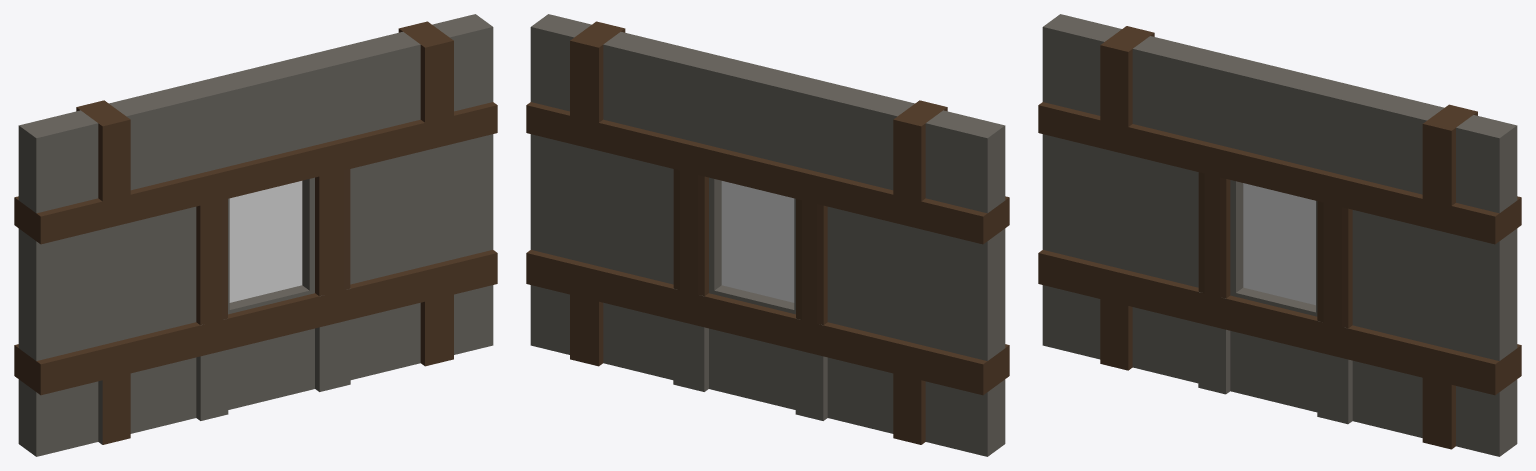
File: Window Wall.fbx
3 views of the same model, side by side, from view 1: azimuth 30°, elevation 25°; view 2: azimuth 150°, elevation 25°; view 3: azimuth 330°, elevation 25° (orthographic).
Parts seen in each view (by area): view 1: Window Wall; view 2: Window Wall; view 3: Window Wall.
Boxes of the visible parts, x1,y1,x2,y2 form: Window Wall: [14, 14, 497, 456]; Window Wall: [526, 14, 1009, 456]; Window Wall: [1038, 14, 1521, 456].
Bounding box in the file's own units: 300 × 200 × 30.
